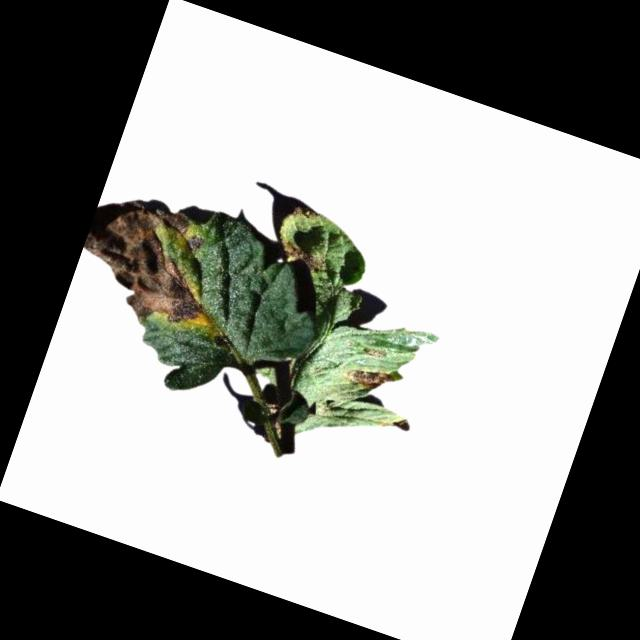Early_blight: (68, 188, 242, 343), (343, 357, 395, 394), (278, 238, 328, 273), (362, 340, 390, 362), (291, 204, 319, 224)
